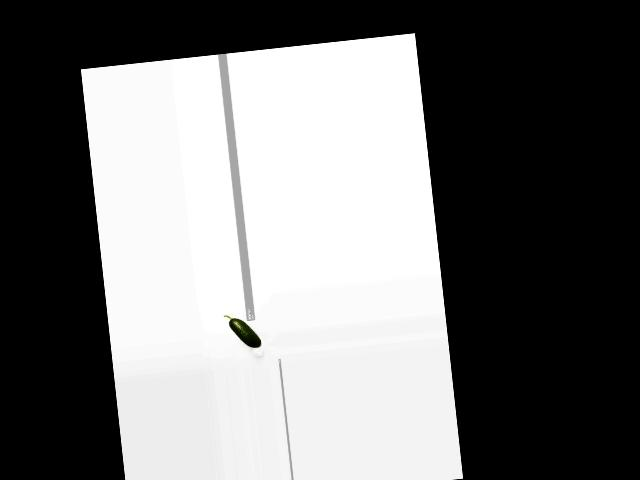cucumber: (224, 310, 262, 350)
